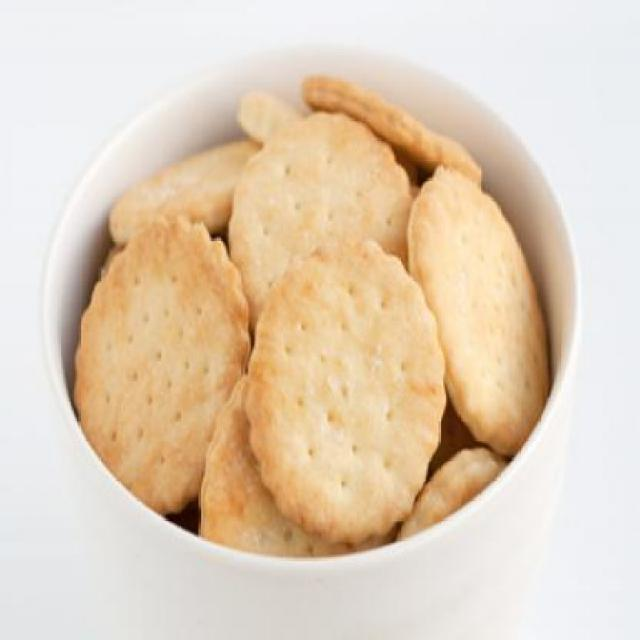Ritz cracker packaged: (73, 70, 556, 562)
